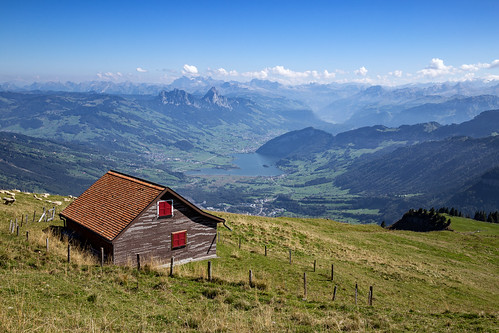building: (67, 167, 224, 269)
grass: (10, 208, 499, 333)
mountain: (18, 66, 499, 110)
sky: (1, 1, 499, 78)
